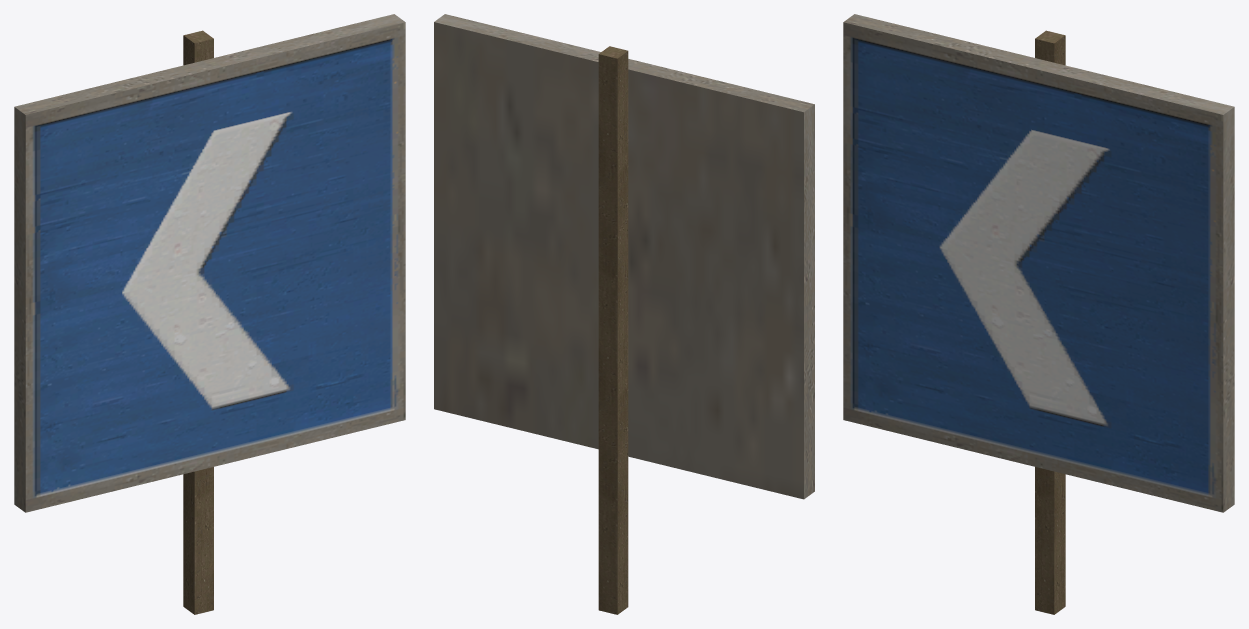
File: arrowleft.glb
3 views of the same model, side by side, from view 1: azimuth 30°, elevation 25°; view 2: azimuth 150°, elevation 25°; view 3: azimuth 330°, elevation 25° (orthographic). The views are drawn at different scales.
Visible parts, largest first — view 1: node_id42; view 2: node_id42; view 3: node_id42.
Boxes of the visible parts, x1=… form: node_id42: x1=14, y1=14, x2=405, y2=614; node_id42: x1=434, y1=14, x2=814, y2=614; node_id42: x1=843, y1=14, x2=1234, y2=614.
Bounding box in the file's own units: 0.3564 × 0.512 × 0.0365.
Materials: 1 (1 with a texture image).
